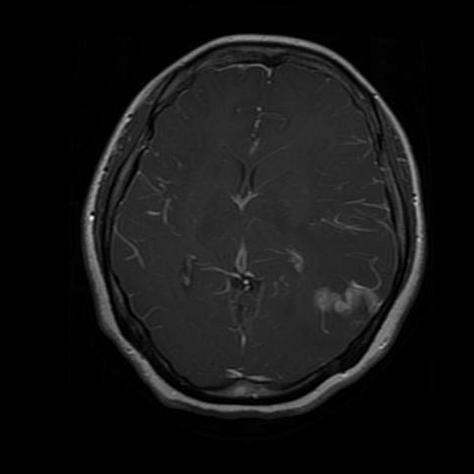Tumour-Glioma: (322, 272, 384, 348)
